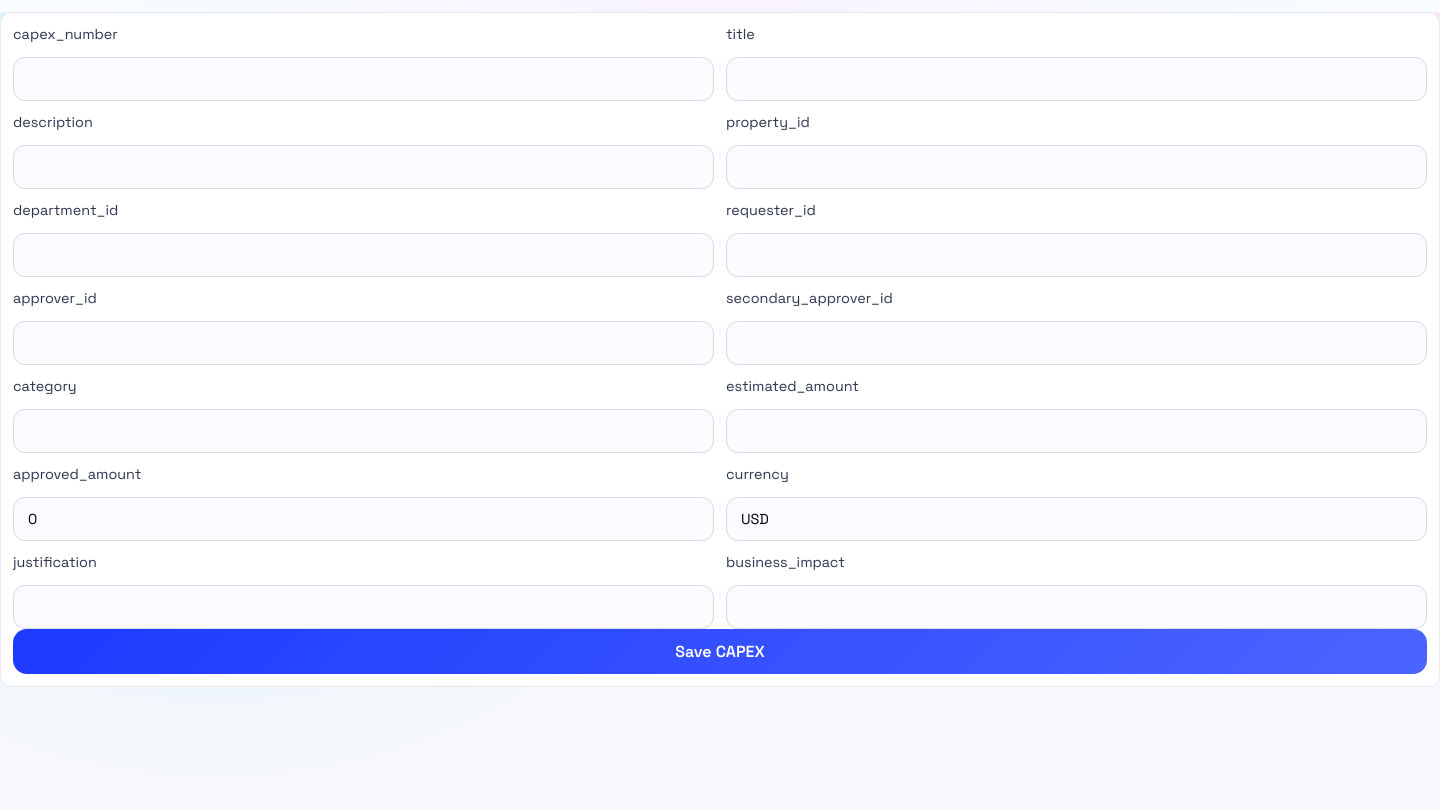
it: Corporate forms › capex high-value validation
The image size is (1440, 810).
Type "New CAPEX" into the field labelled "title" at coordinates (1076, 79), box [726,57,1427,101]
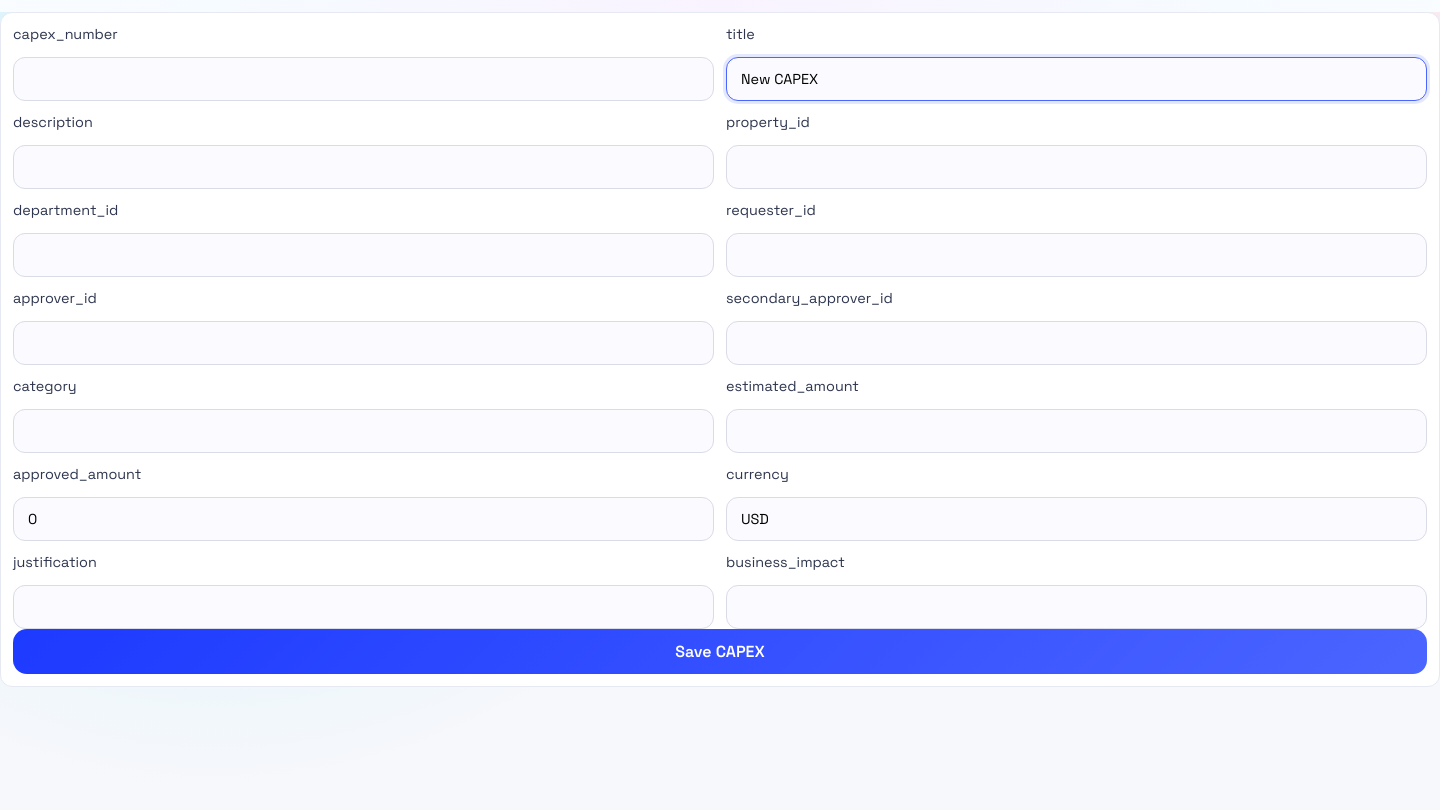
Type "4" into the field labelled "requester_id" at coordinates (1076, 255), box [726,233,1427,277]
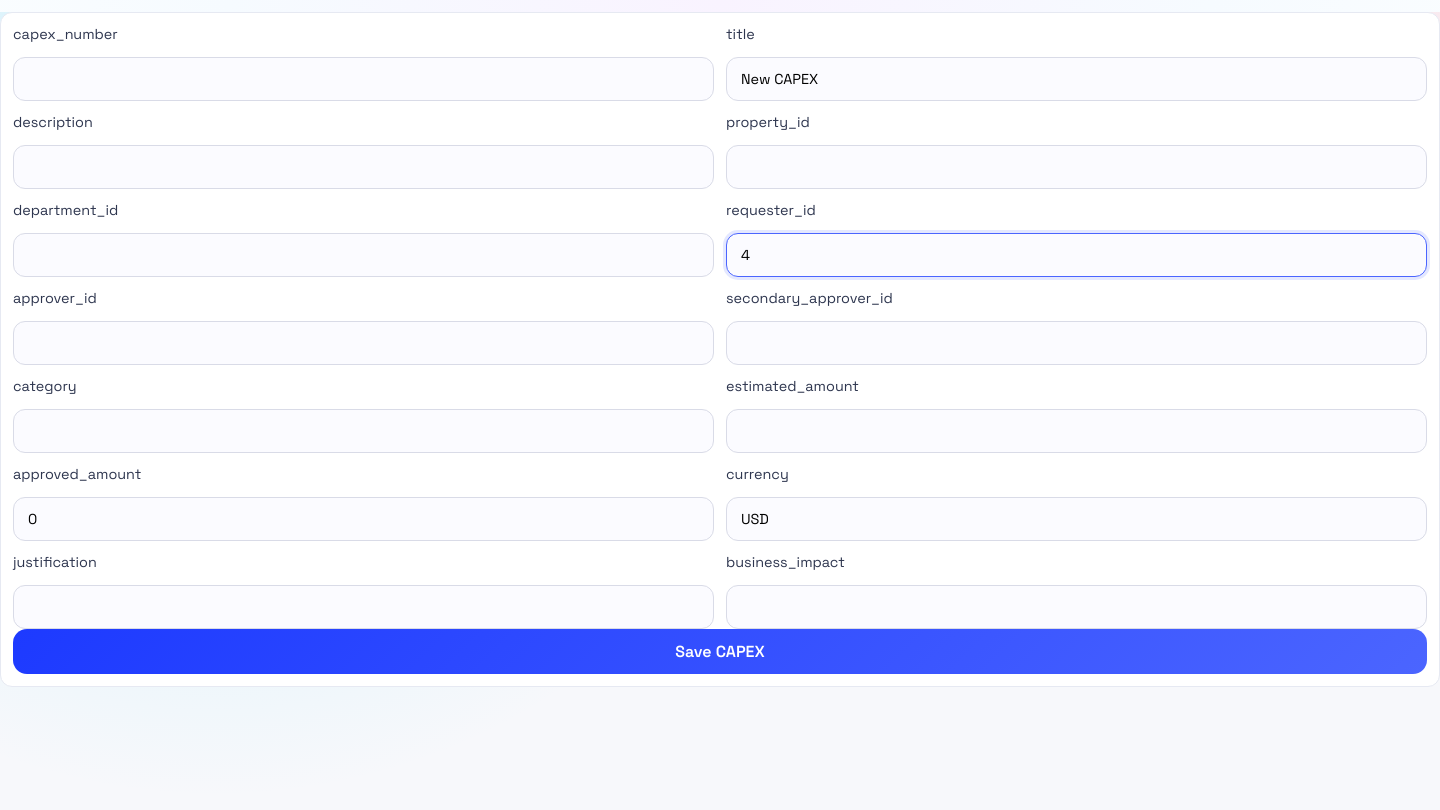
Type "6000" into the field labelled "estimated_amount" at coordinates (1076, 431), box [726,409,1427,453]
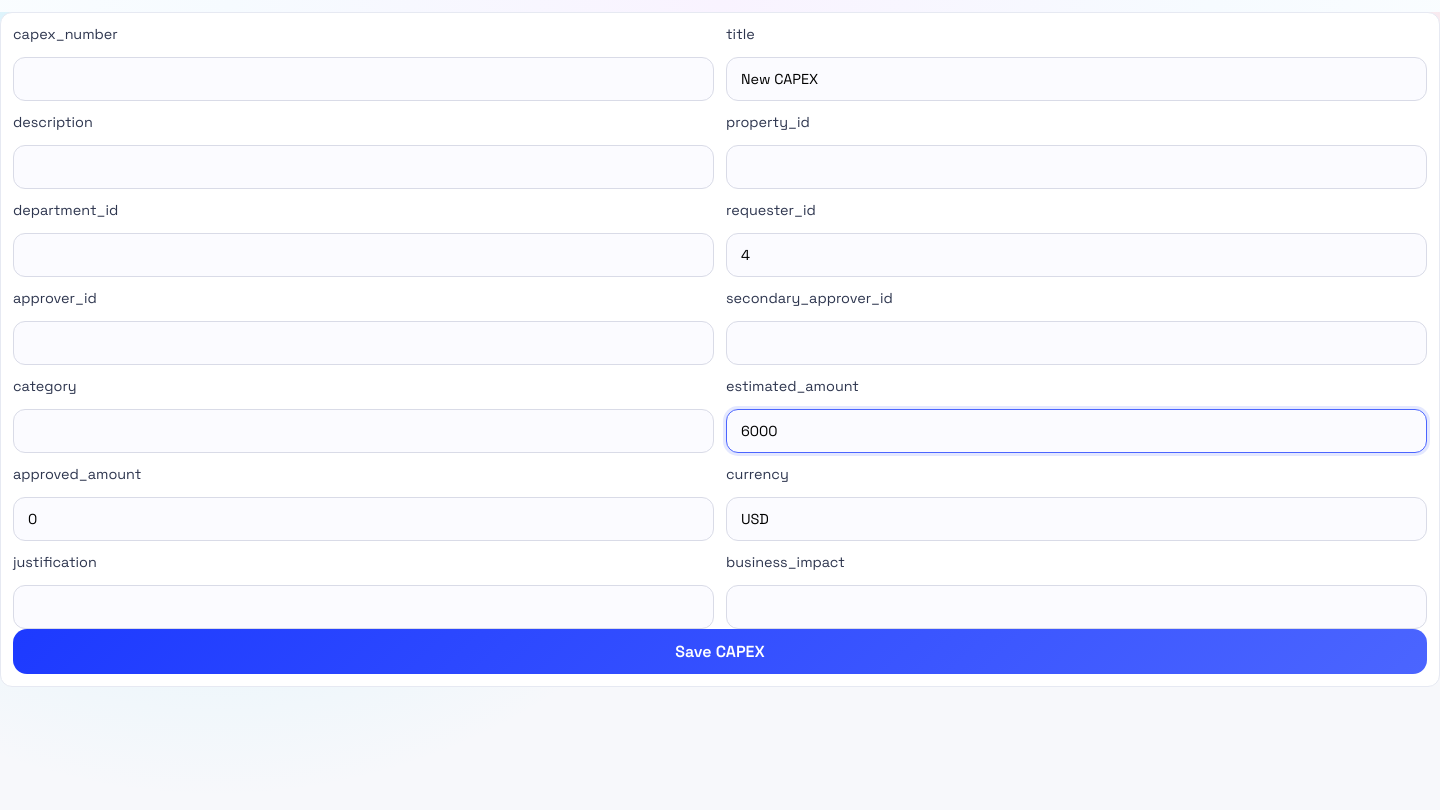
Type "1000" into the field labelled "approved_amount" at coordinates (364, 519), box [13,497,714,541]
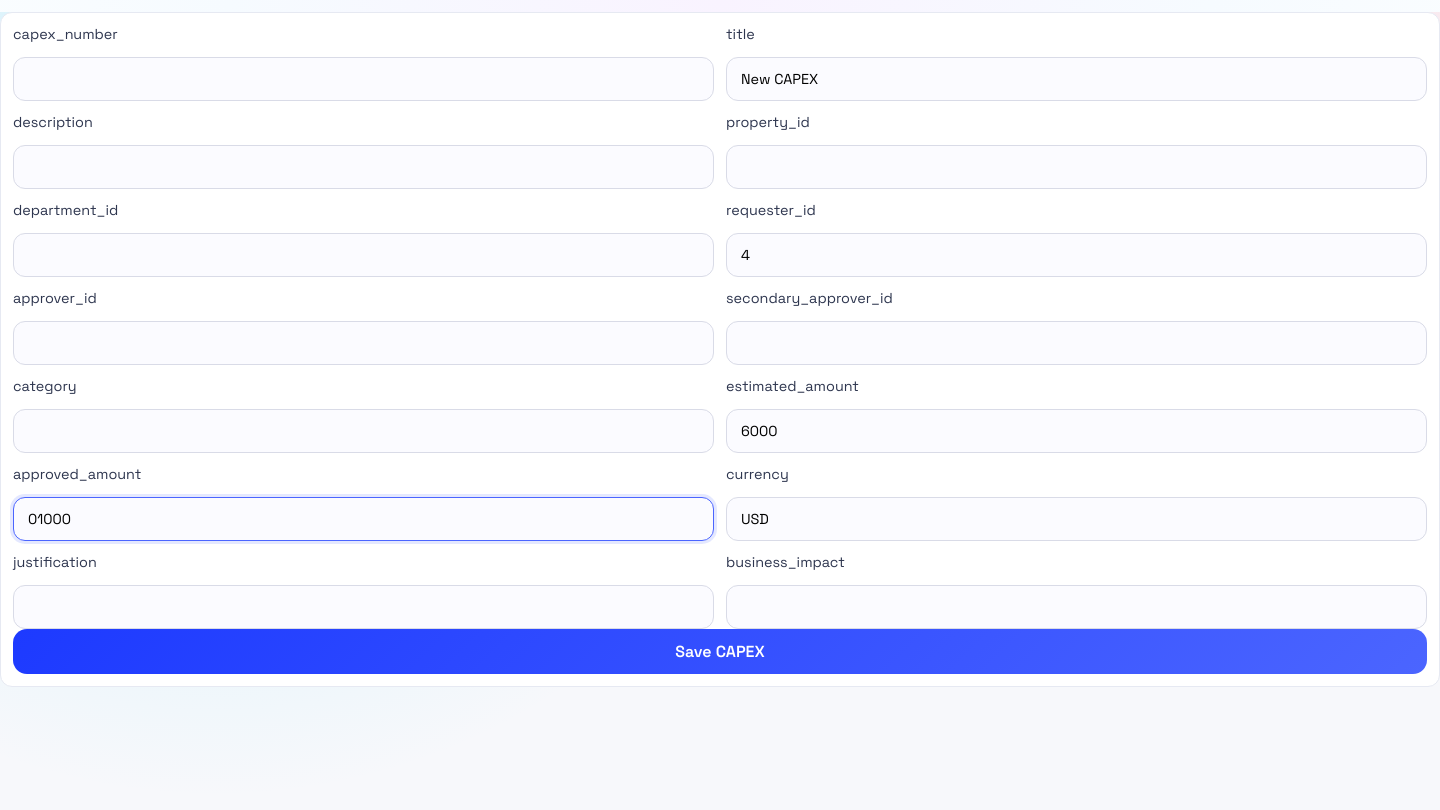
Type "Need upgrade" into the field labelled "justification" at coordinates (364, 607), box [13,585,714,629]
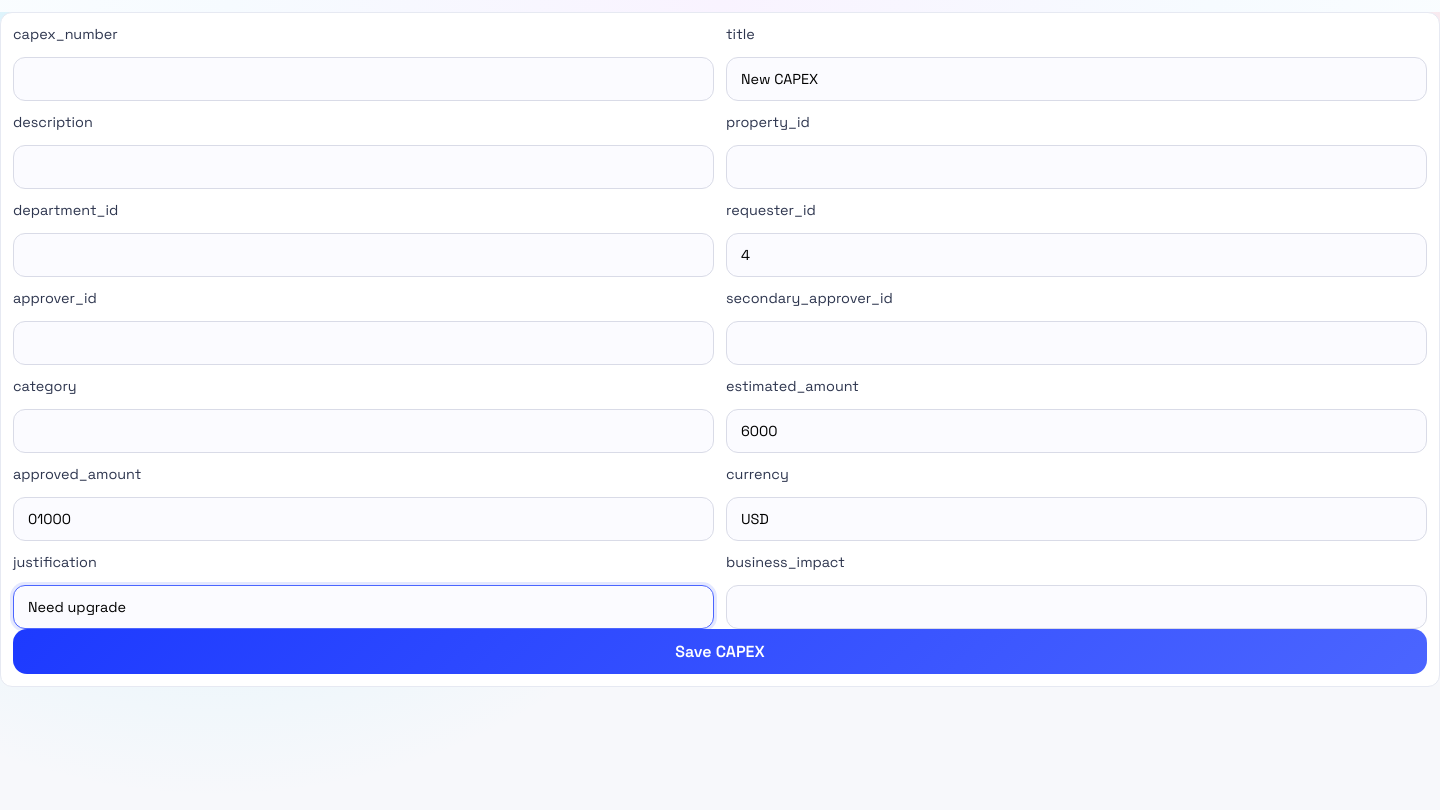
Click the button "Save CAPEX" at coordinates (720, 652), box [13,629,1427,674]
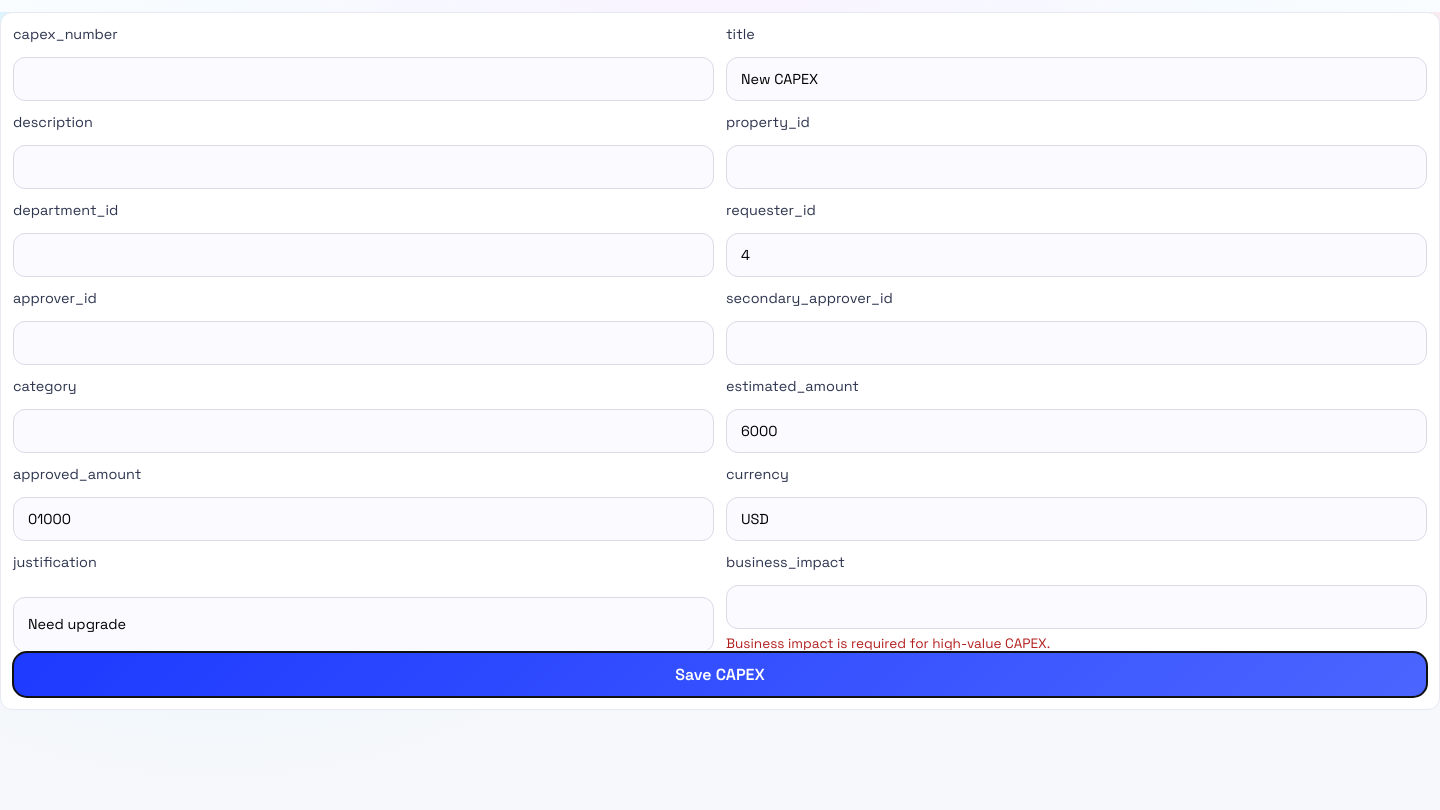
Result: the text "Business impact is required for high-value CAPEX." is shown at [726,635,1050,652]
